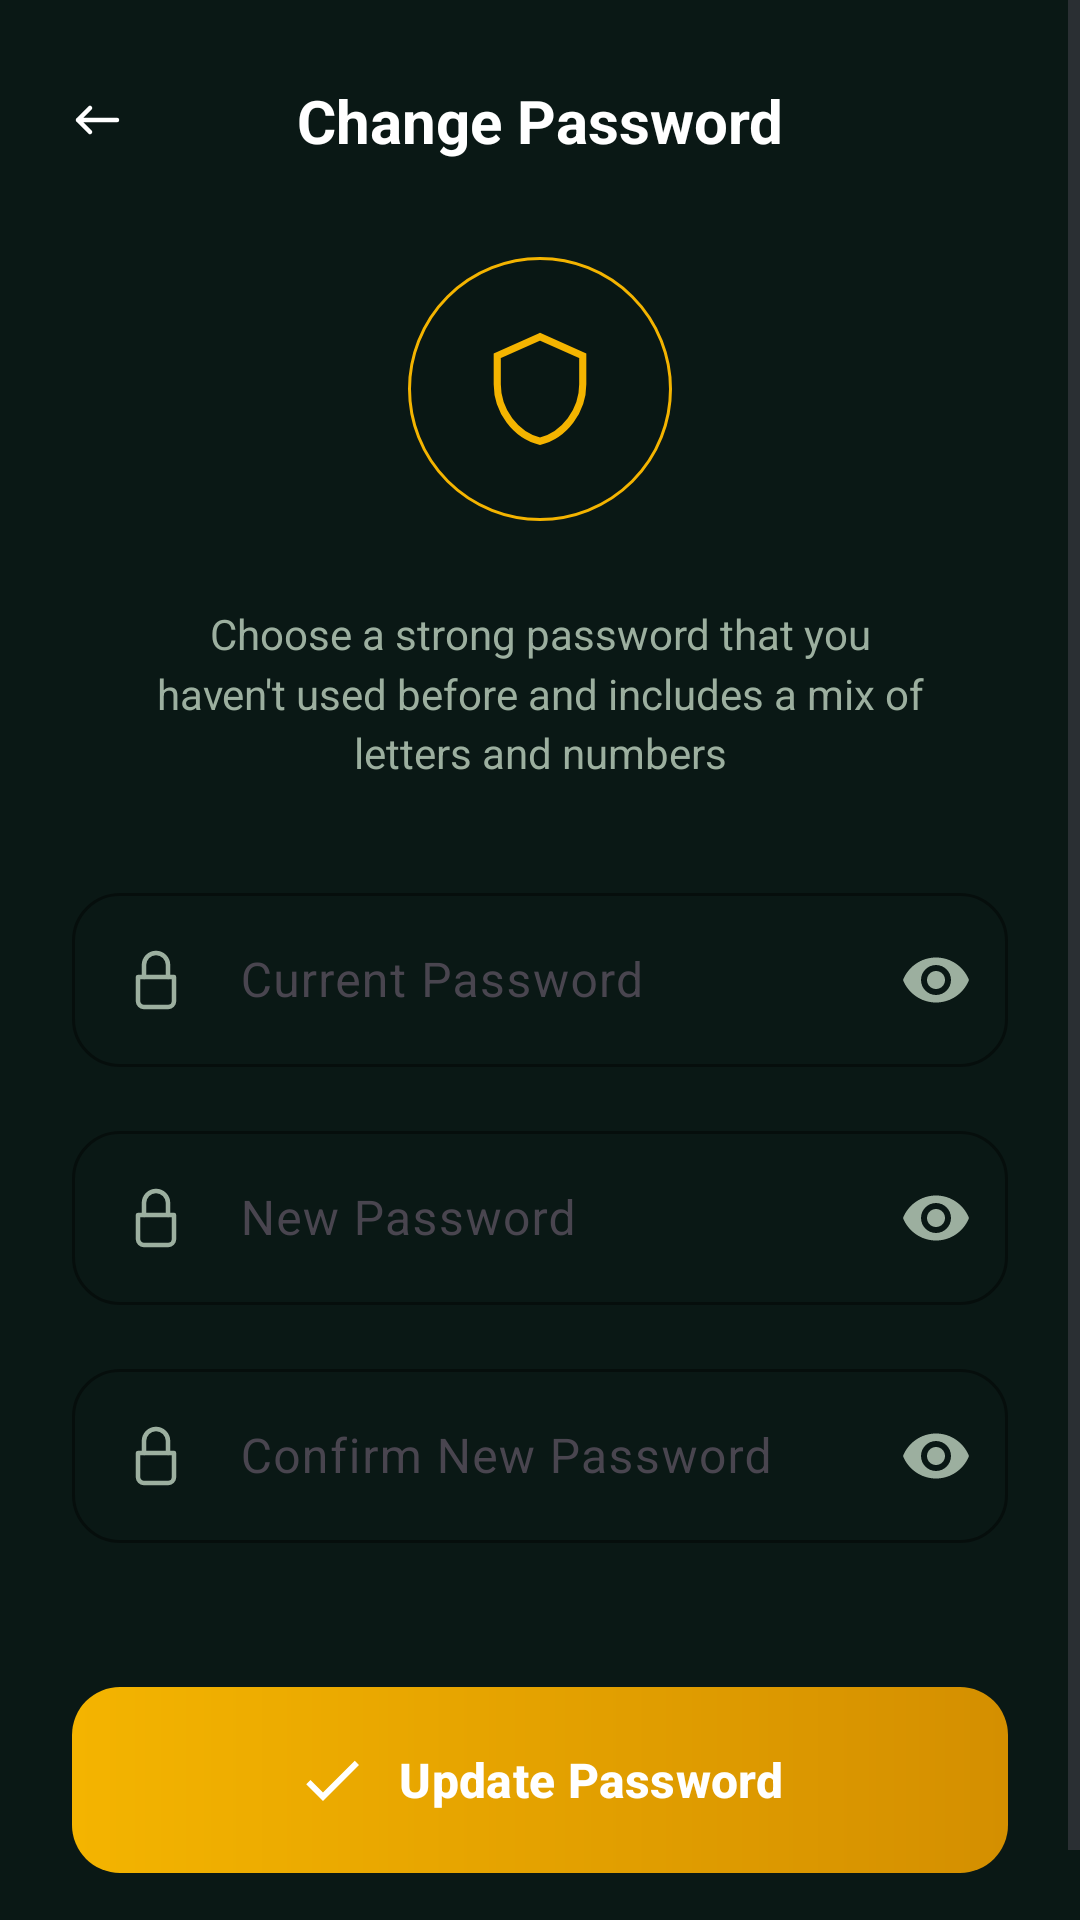

Where icons sit on this 1080w x 1920h app screen, as {"left": x1, "top": y1, "right": x2, "bottom": y2}:
Back: {"left": 75, "top": 105, "right": 119, "bottom": 135}
shield: {"left": 493, "top": 333, "right": 587, "bottom": 445}
